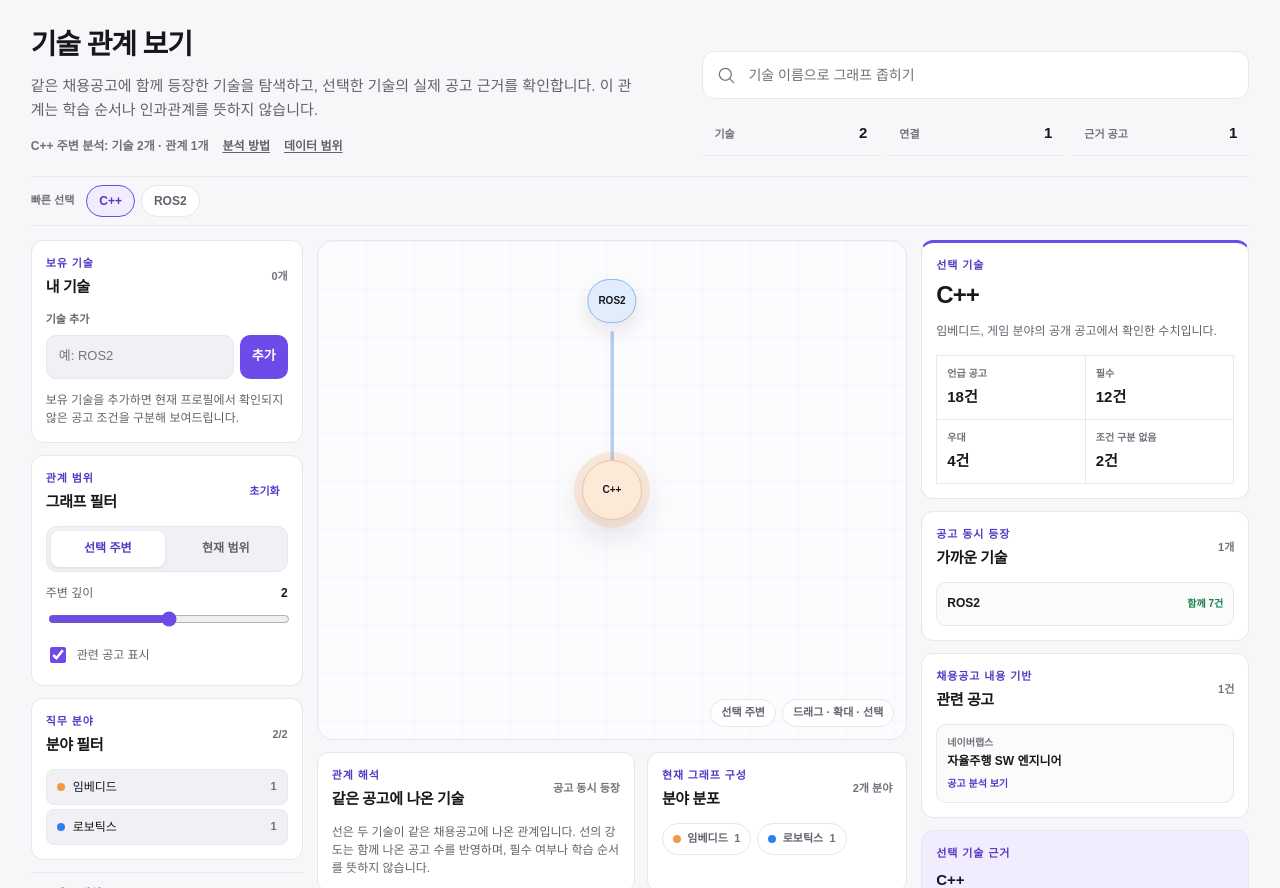
SkillGraphExperience › explains an empty filter result and restores the graph
The image size is (1280, 888).
Type "존재하지않는기술" into the search field named "그래프 검색". click: (990, 75)
box: top-left (746, 52), bottom-right (1234, 98)
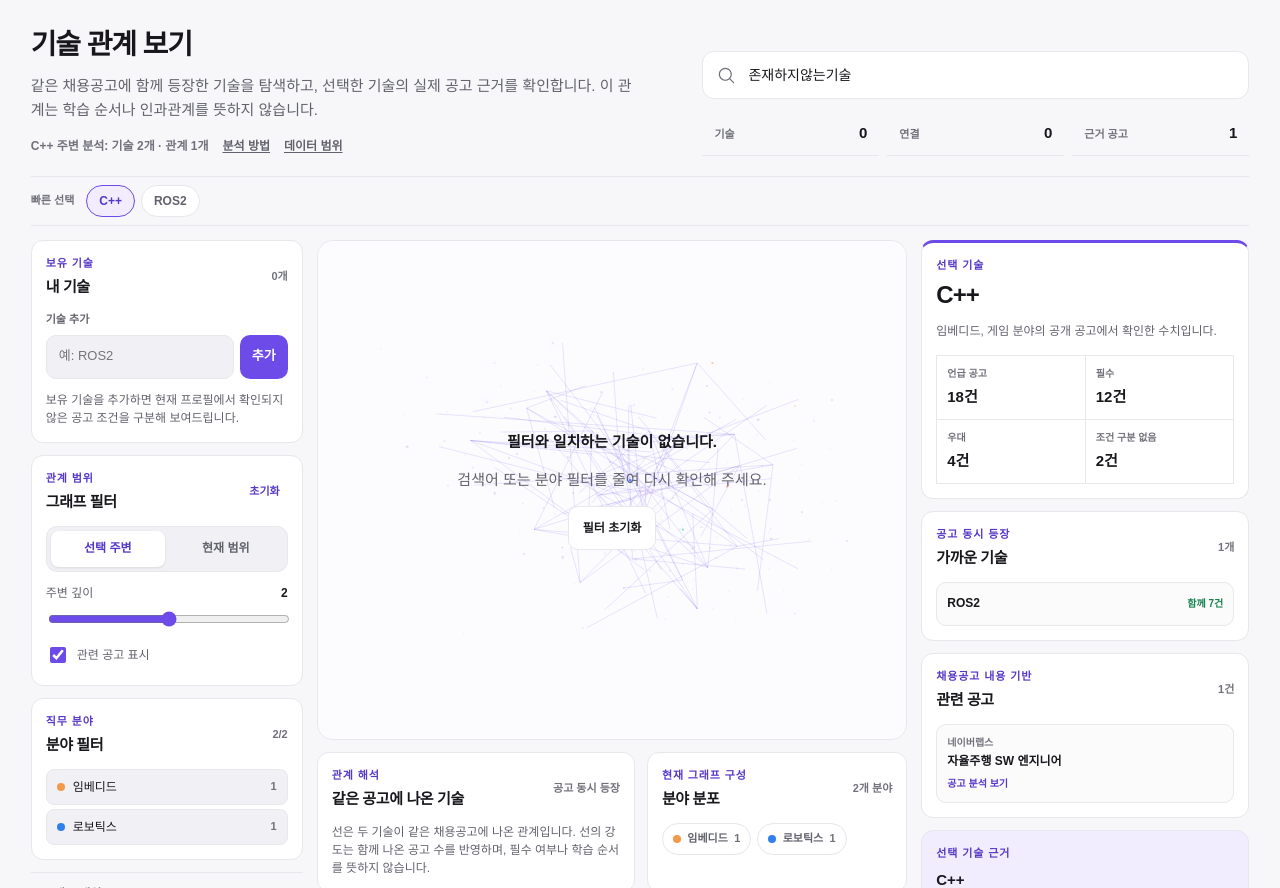
Result: the text "필터와 일치하는 기술이 없습니다." is shown at top-left (507, 430), bottom-right (717, 454)
Click the button "필터 초기화". click: click(612, 528)
box: top-left (568, 506), bottom-right (656, 550)
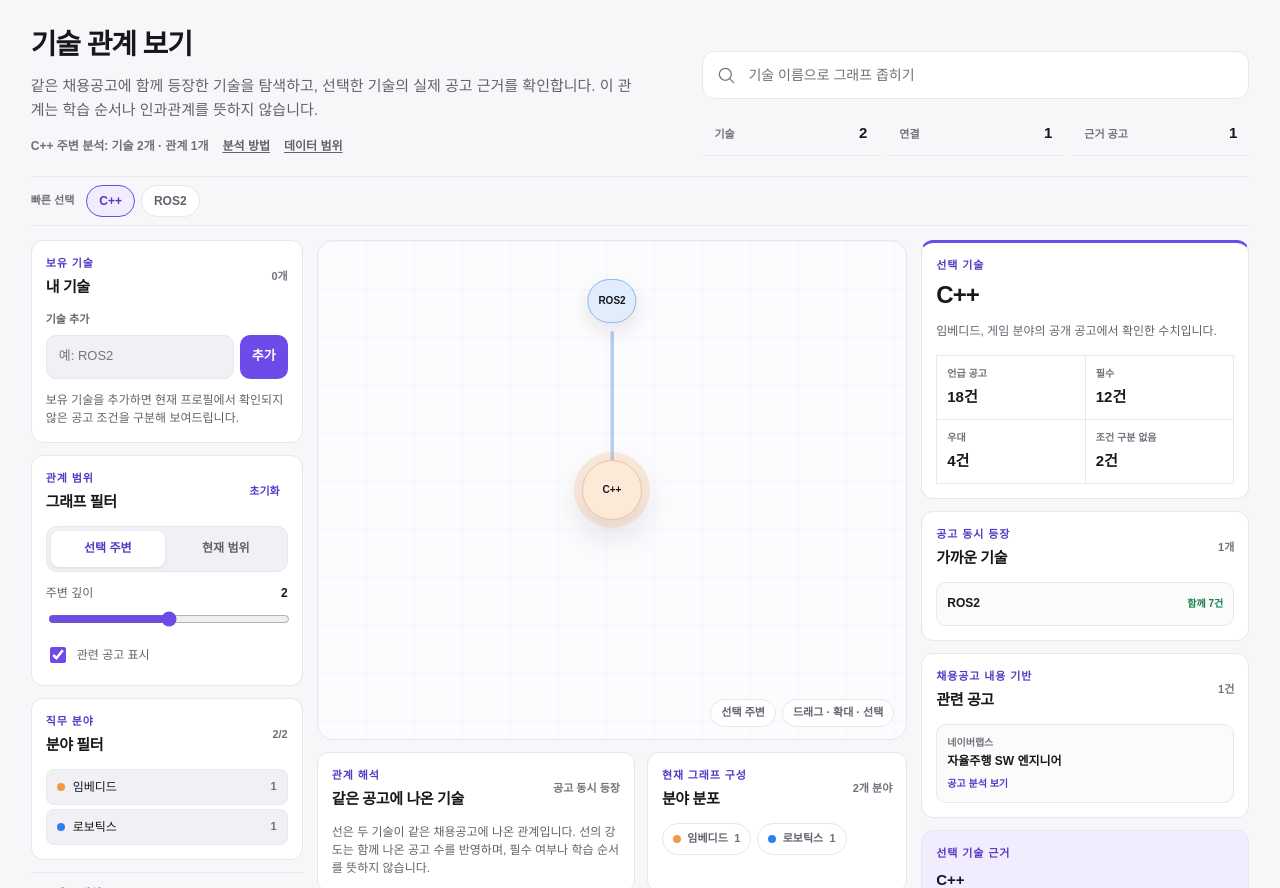
Result: the text "필터와 일치하는 기술이 없습니다." is gone
Result: the search field named "그래프 검색" is empty at top-left (746, 52), bottom-right (1234, 98)
